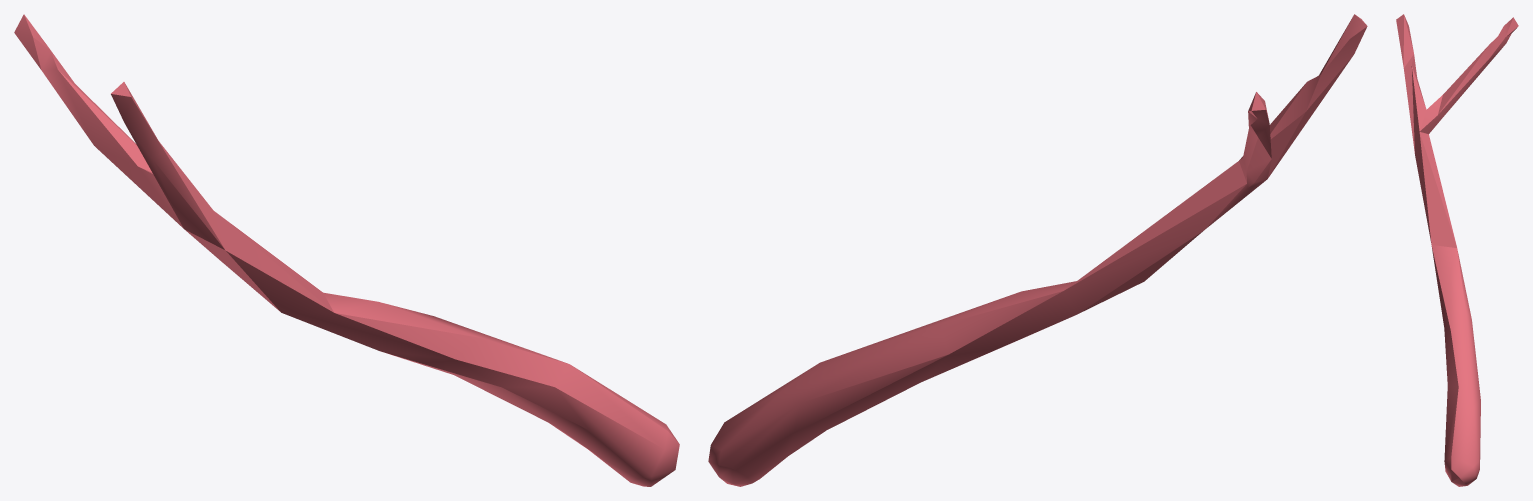
Rendered from fma50429_fj1679m.glb.
3 views of the same model, side by side, from view 1: azimuth 30°, elevation 25°; view 2: azimuth 150°, elevation 25°; view 3: azimuth 270°, elevation 25° (orthographic). The views are drawn at different scales.
Visible parts, largest first — view 1: FMA50429_FJ1679M; view 2: FMA50429_FJ1679M; view 3: FMA50429_FJ1679M.
Part boxes in pixels (left/top/right/bottom): FMA50429_FJ1679M: left=14, top=14, right=679, bottom=486; FMA50429_FJ1679M: left=708, top=14, right=1367, bottom=486; FMA50429_FJ1679M: left=1396, top=14, right=1518, bottom=486.
Size of the model in its own units: 0.00997 by 0.00896 by 0.00314.
